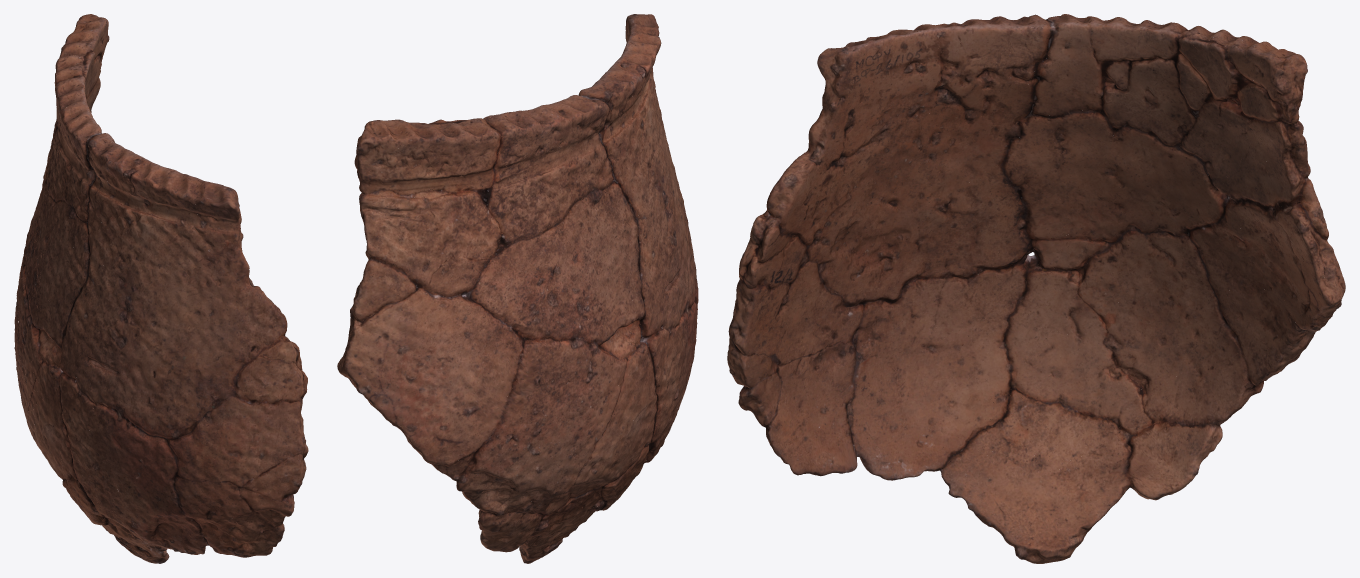
Rendered from cup1_low.glb.
3 renders of one model, left to right at view 1: azimuth 30°, elevation 25°; view 2: azimuth 150°, elevation 25°; view 3: azimuth 270°, elevation 25°, orthographic. The views are drawn at different scales.
Visible parts, largest first — view 1: Model; view 2: Model; view 3: Model.
Boxes of the visible parts, x1=… form: Model: x1=14, y1=14, x2=308, y2=563; Model: x1=337, y1=14, x2=698, y2=563; Model: x1=727, y1=14, x2=1345, y2=563.
Size of the model in its own units: 0.9988 by 2.72 by 2.84.
1 material, 1 textured.
